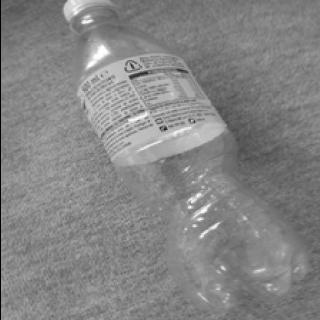plastic_bottles: (26, 0, 309, 307)
